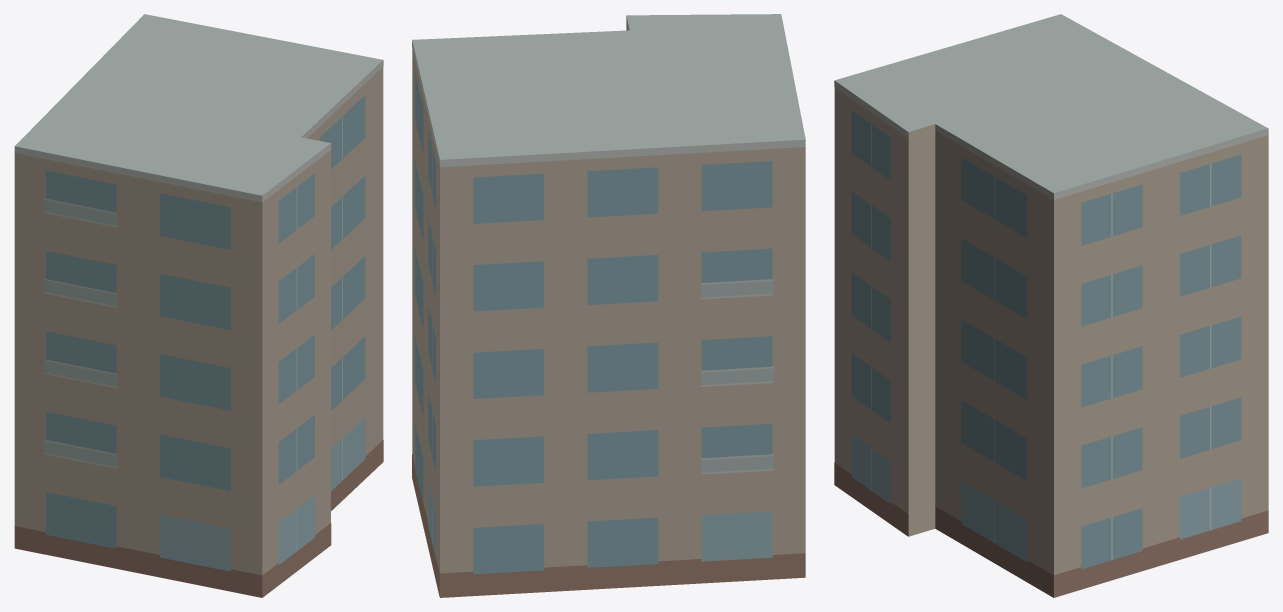
Rendered from survey-upis-32774064.glb.
3 renders of one model, left to right at view 1: azimuth 30°, elevation 25°; view 2: azimuth 150°, elevation 25°; view 3: azimuth 270°, elevation 25°, orthographic. The views are drawn at different scales.
Parts seen in each view (by area): view 1: survey-upis-32774064.tmp; view 2: survey-upis-32774064.tmp; view 3: survey-upis-32774064.tmp.
Part boxes in pixels (box(x1,y1,x2,y2)): survey-upis-32774064.tmp: box(14, 14, 383, 597); survey-upis-32774064.tmp: box(412, 14, 805, 597); survey-upis-32774064.tmp: box(834, 14, 1268, 597).
Size of the model in its own units: 13.92 by 14.64 by 14.24.
